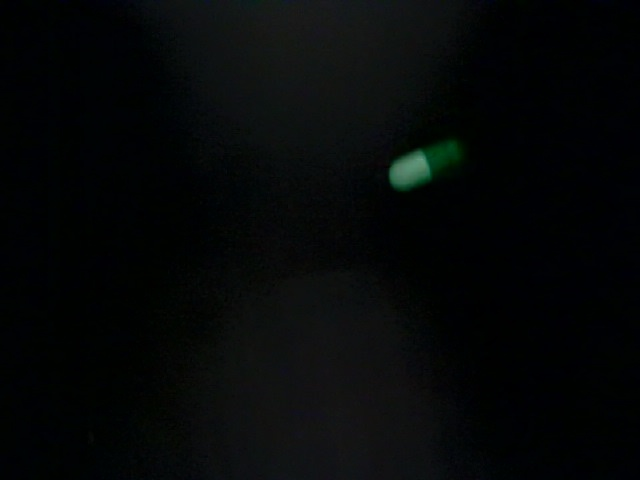YHLJ: (432, 193, 552, 287)
